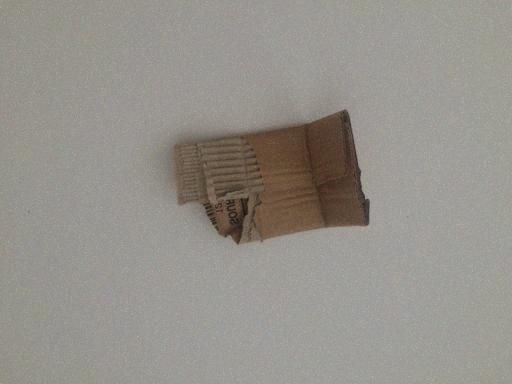cardboard: (173, 110, 372, 247)
